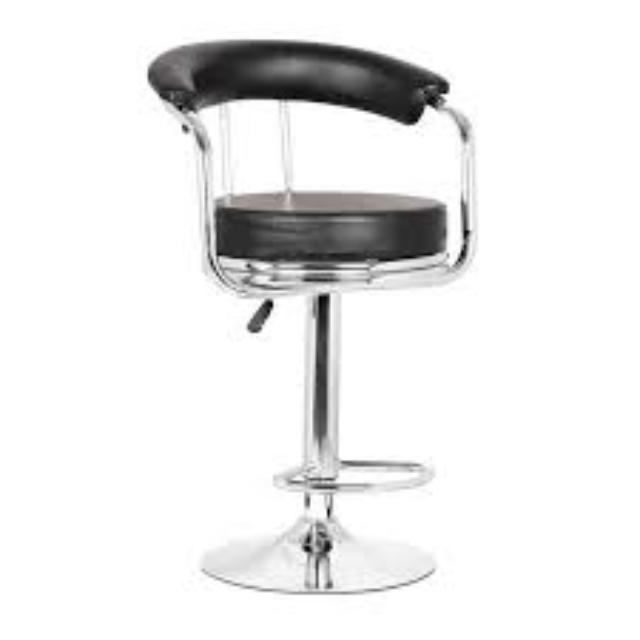obstacle: (123, 8, 549, 618)
